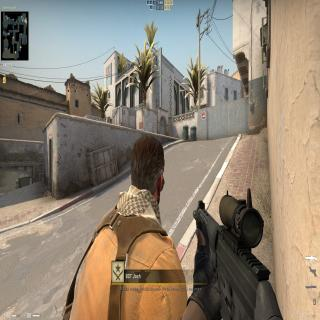T-Head: (131, 138, 166, 211)
